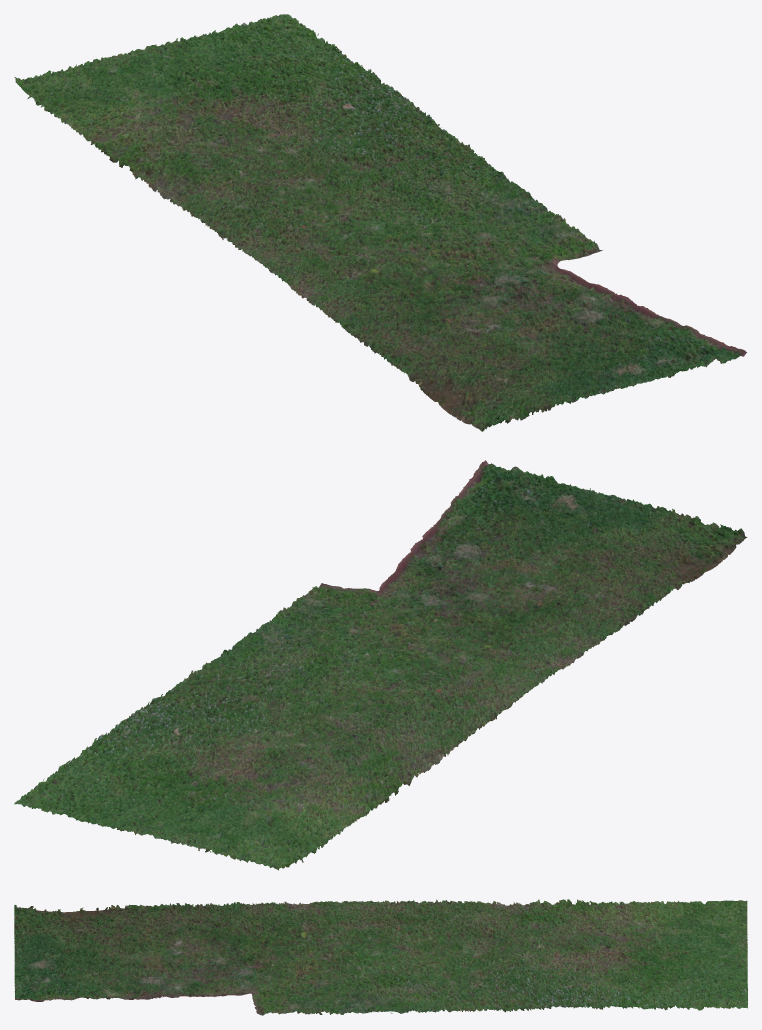
The model's file is grass.glb.
The picture shows the model from 3 angles, top to bottom: view 1: azimuth 30°, elevation 25°; view 2: azimuth 150°, elevation 25°; view 3: azimuth 270°, elevation 25°; orthographic projection. The views are drawn at different scales.
Parts seen in each view (by area): view 1: Model_material0_0; view 2: Model_material0_0; view 3: Model_material0_0.
Boxes of the visible parts, <box> form: Model_material0_0: <box>14,14,746,431</box>; Model_material0_0: <box>14,460,747,870</box>; Model_material0_0: <box>14,899,747,1015</box>.
Bounding box in the file's own units: 94.17 × 7.21 × 274.
1 material, 1 textured.
